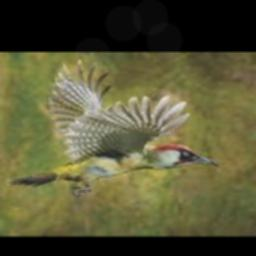Woodpecker: (7, 59, 219, 196)
